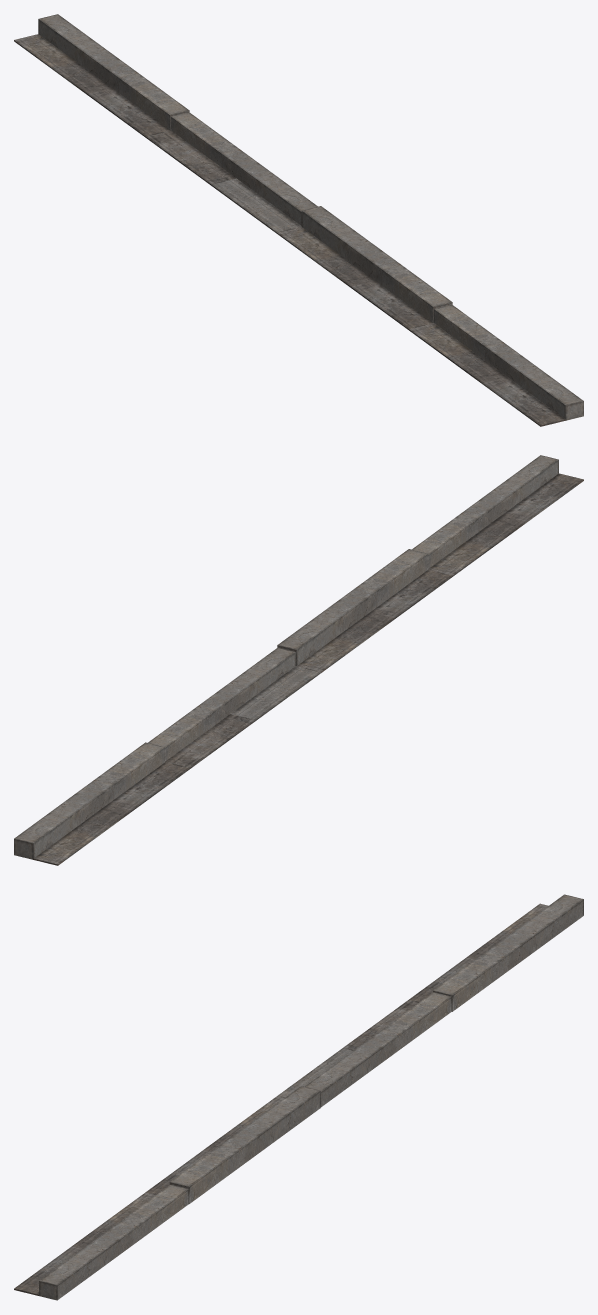
Rendered from CP_Curbstone_8m_01.fbx.
3 renders of one model, top to bottom at view 1: azimuth 30°, elevation 25°; view 2: azimuth 150°, elevation 25°; view 3: azimuth 330°, elevation 25°, orthographic.
Parts seen in each view (by area): view 1: CP_Curbstone_8m_01; view 2: CP_Curbstone_8m_01; view 3: CP_Curbstone_8m_01.
Boxes of the visible parts, x1=… form: CP_Curbstone_8m_01: x1=14, y1=14, x2=583, y2=426; CP_Curbstone_8m_01: x1=14, y1=455, x2=583, y2=865; CP_Curbstone_8m_01: x1=14, y1=894, x2=583, y2=1300.
Bounding box in the file's own units: 38.61 × 14.73 × 800.
